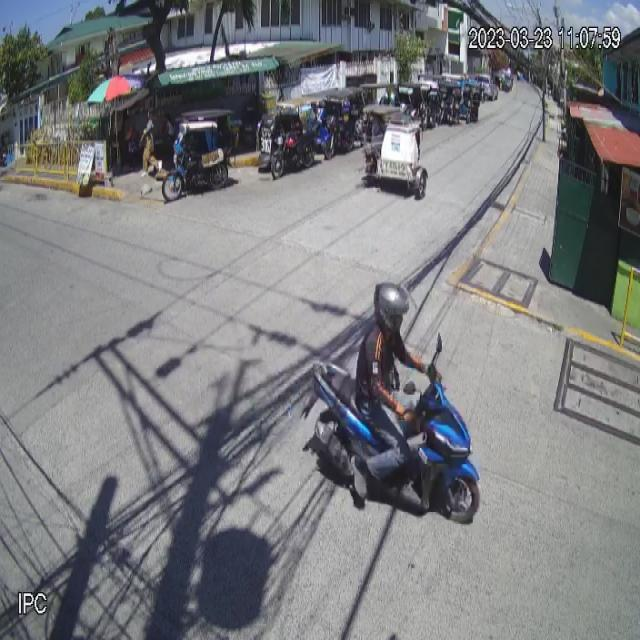Motorcycle: (301, 332, 481, 523)
Tricycle: (361, 103, 428, 200)
